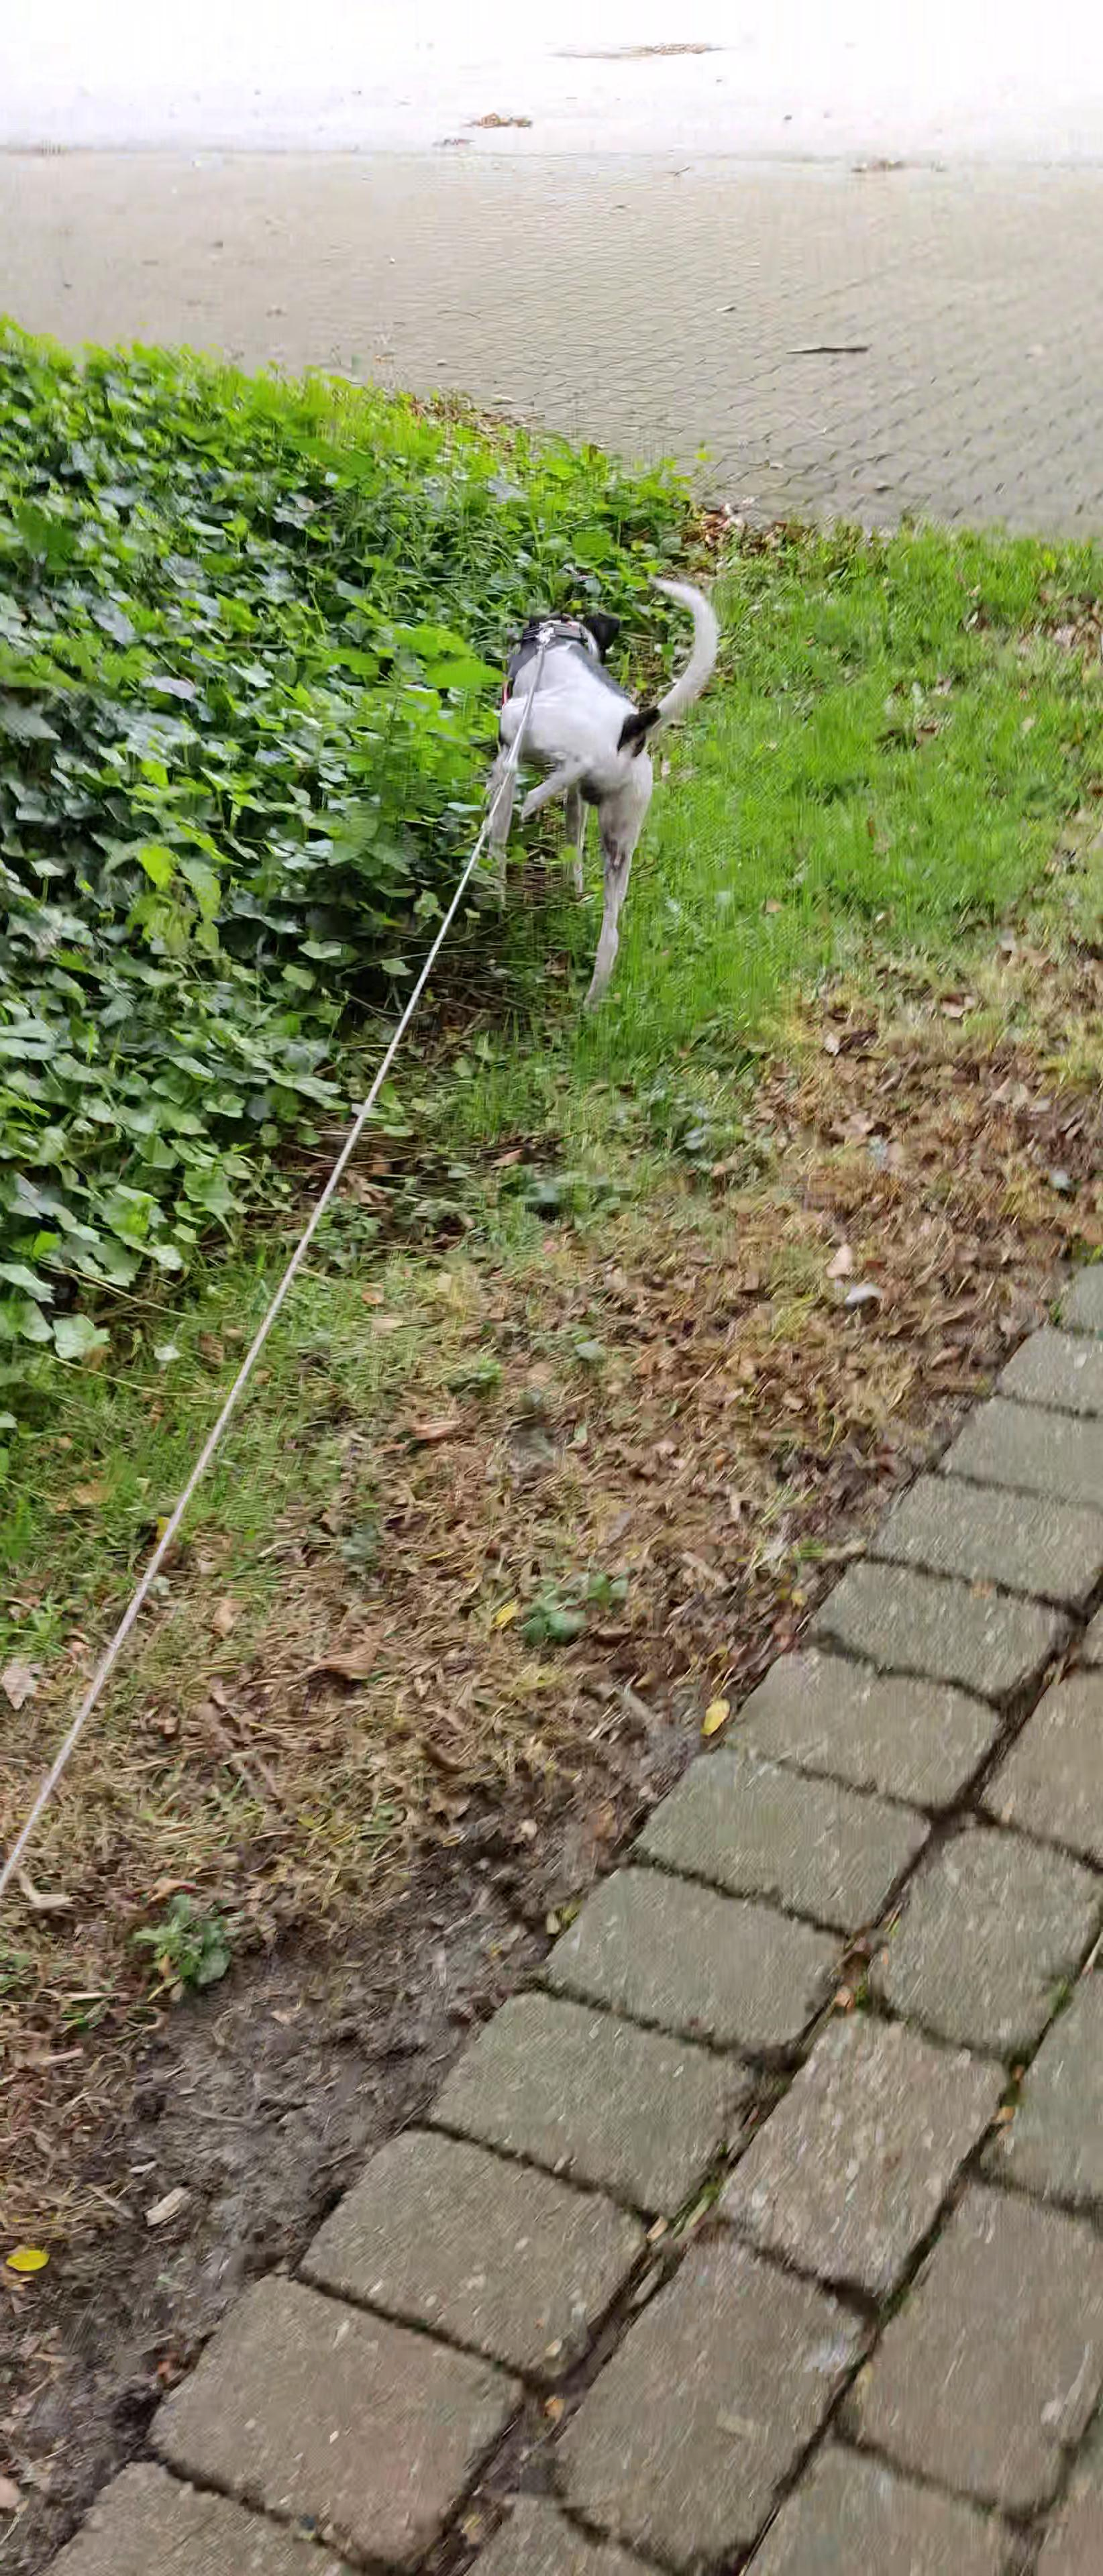Dog: (418, 531, 764, 1019)
